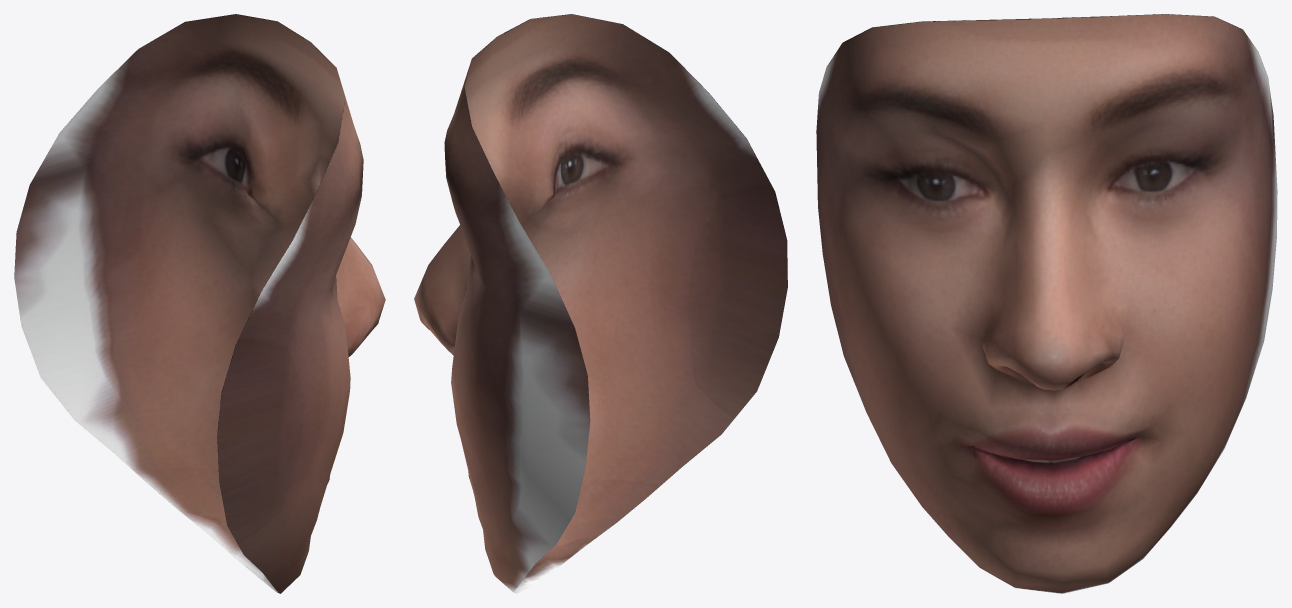
The model's file is tiktok_fashion.glb.
The picture shows the model from 3 angles, left to right: view 1: azimuth 30°, elevation 25°; view 2: azimuth 150°, elevation 25°; view 3: azimuth 270°, elevation 25°; orthographic projection. The views are drawn at different scales.
Visible parts, largest first — view 1: tiktok_fashion; view 2: tiktok_fashion; view 3: tiktok_fashion.
Part boxes in pixels (x1,y1,x2,y2): tiktok_fashion: [14, 14, 385, 593]; tiktok_fashion: [414, 14, 787, 593]; tiktok_fashion: [816, 14, 1277, 593].
Bounding box in the file's own units: 0.4496 × 0.8579 × 0.5981.
1 material, 1 textured.
